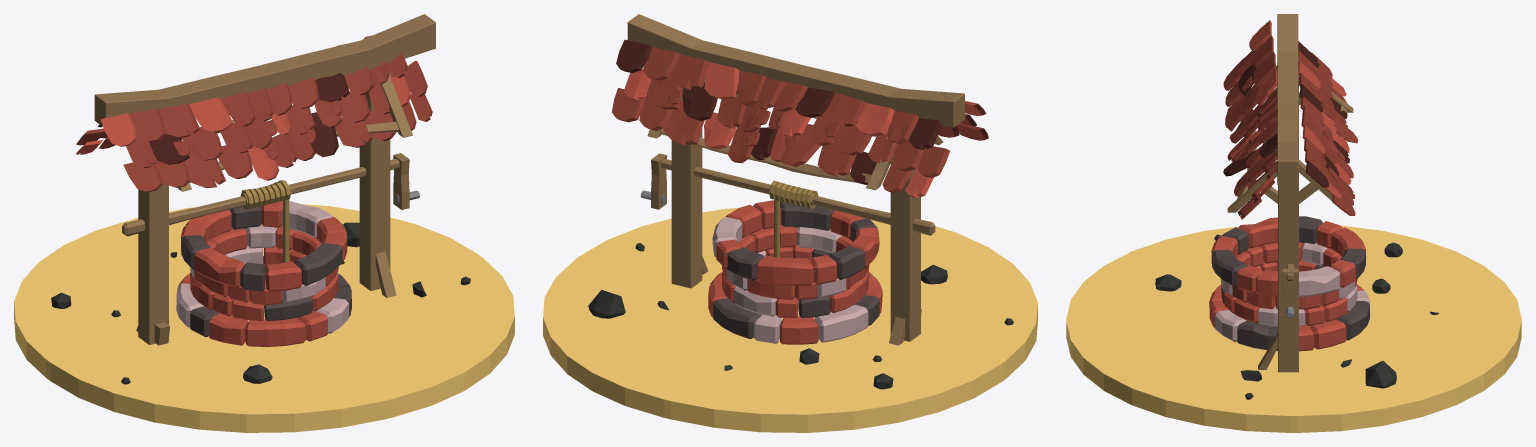
File: studnia.glb
3 renders of one model, left to right at view 1: azimuth 30°, elevation 25°; view 2: azimuth 150°, elevation 25°; view 3: azimuth 270°, elevation 25°, orthographic. The views are drawn at different scales.
Visible parts, largest first — view 1: Plane, Roof, Cube.006, Cube.003, Cube, Cube.005, Cube.004, Cube.002, Cube.001, Cube.007, Cylinder, Cube.021 (+3 smaller); view 2: Plane, Roof.001, Cube.003, Cube.006, Cube, Cube.004, Cube.005, Cube.002, Cube.001, Cube.007, Cube.019, Roof (+3 smaller); view 3: Plane, Roof, Cube.003, Roof.001, Cube, Cube.006, Cube.004, Cube.002, Cube.001, Icosphere.001, Cube.021, Cube.013.
Part boxes in pixels (x1,y1,x2,y2): Plane: [14, 204, 514, 432]; Roof: [100, 54, 432, 191]; Cube.006: [94, 14, 435, 126]; Cube.003: [181, 201, 347, 291]; Cube: [176, 256, 351, 346]; Cube.005: [138, 180, 168, 344]; Cube.004: [359, 70, 390, 290]; Cube.002: [190, 224, 338, 305]; Cube.001: [190, 245, 338, 320]; Cube.007: [122, 158, 399, 236]; Cylinder: [240, 180, 290, 209]; Cube.021: [393, 153, 409, 209]; Plane: [543, 208, 1037, 432]; Roof.001: [612, 39, 949, 198]; Cube.003: [712, 200, 879, 285]; Cube.006: [627, 14, 964, 127]; Cube: [708, 272, 882, 344]; Cube.004: [671, 87, 702, 288]; Cube.005: [890, 139, 920, 341]; Cube.002: [722, 224, 869, 299]; Cube.001: [722, 244, 868, 318]; Cube.007: [661, 159, 935, 235]; Cube.019: [661, 127, 871, 183]; Roof: [703, 82, 988, 140]; Plane: [1066, 225, 1521, 432]; Roof: [1223, 20, 1277, 219]; Cube.003: [1211, 216, 1365, 296]; Roof.001: [1298, 41, 1358, 215]; Cube: [1209, 284, 1369, 351]; Cube.006: [1277, 14, 1298, 184]; Cube.004: [1278, 165, 1298, 372]; Cube.002: [1220, 242, 1357, 309]; Cube.001: [1221, 258, 1357, 326]; Icosphere.001: [1365, 361, 1396, 388]; Cube.021: [1282, 268, 1298, 316]; Cube.013: [1227, 167, 1277, 212].
Bounding box in the file's own units: 43.19 × 26.01 × 43.19.
